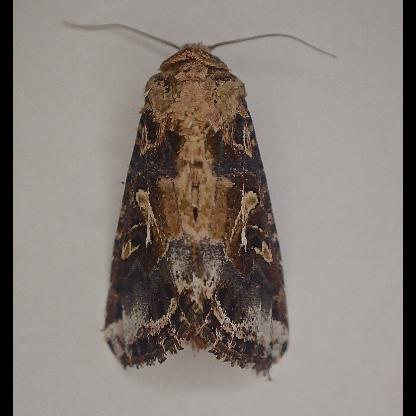Fall Armyworm Moth: (100, 20, 340, 384)
